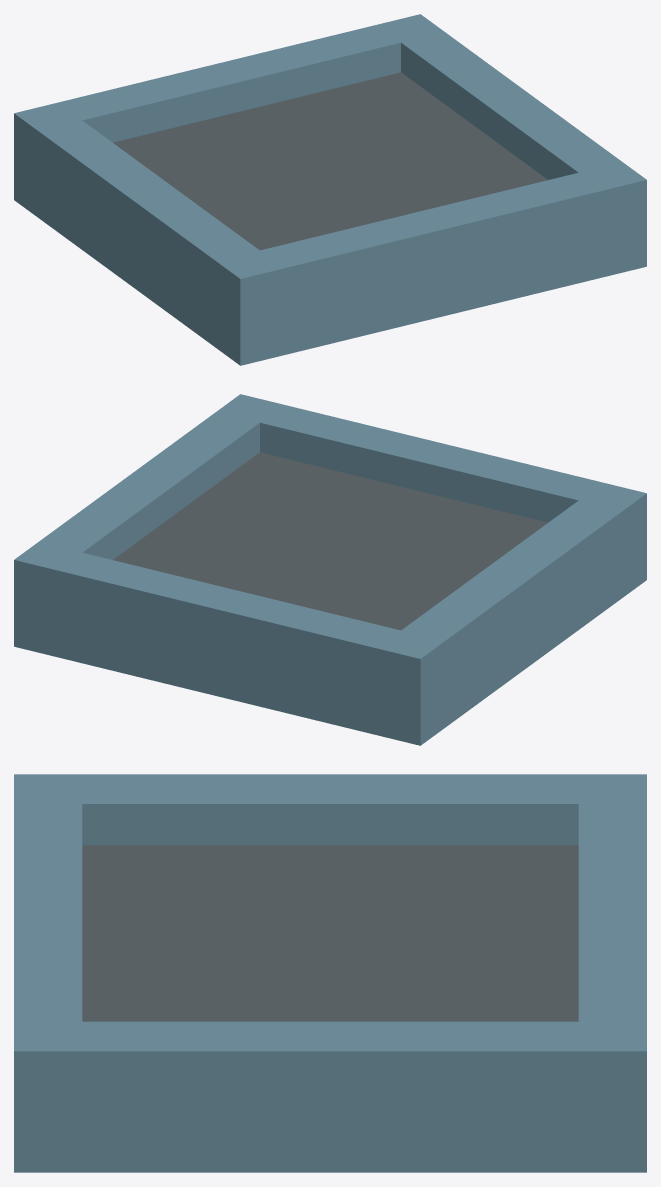
File: Rooftop_Ventilation_05.glb
3 renders of one model, top to bottom at view 1: azimuth 30°, elevation 25°; view 2: azimuth 150°, elevation 25°; view 3: azimuth 270°, elevation 25°, orthographic. The views are drawn at different scales.
Parts seen in each view (by area): view 1: Rooftop_Ventilation_05; view 2: Rooftop_Ventilation_05; view 3: Rooftop_Ventilation_05.
Boxes of the visible parts, x1,y1,x2,y2 form: Rooftop_Ventilation_05: (14,14,646,365); Rooftop_Ventilation_05: (14,394,646,745); Rooftop_Ventilation_05: (14,774,646,1172).
Bounding box in the file's own units: 1.67 × 0.3412 × 1.61.
Materials: 1 (1 with a texture image).
